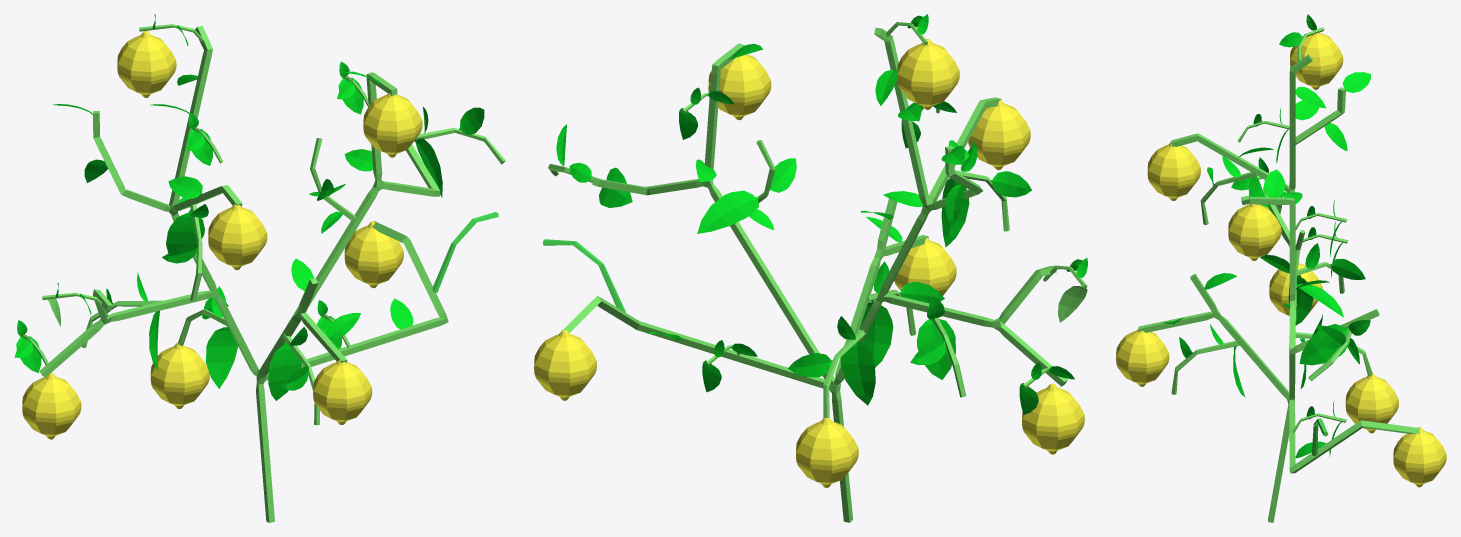
The model's file is Lemon.fbx.
The picture shows the model from 3 angles, left to right: view 1: azimuth 30°, elevation 25°; view 2: azimuth 150°, elevation 25°; view 3: azimuth 270°, elevation 25°; orthographic projection. The views are drawn at different scales.
Parts seen in each view (by area): view 1: Lemon Tree; view 2: Lemon Tree; view 3: Lemon Tree.
Boxes of the visible parts, x1,y1,x2,y2 form: Lemon Tree: [14, 14, 505, 522]; Lemon Tree: [534, 14, 1087, 522]; Lemon Tree: [1116, 14, 1446, 522].
Size of the model in its own units: 616 by 617 by 397.
